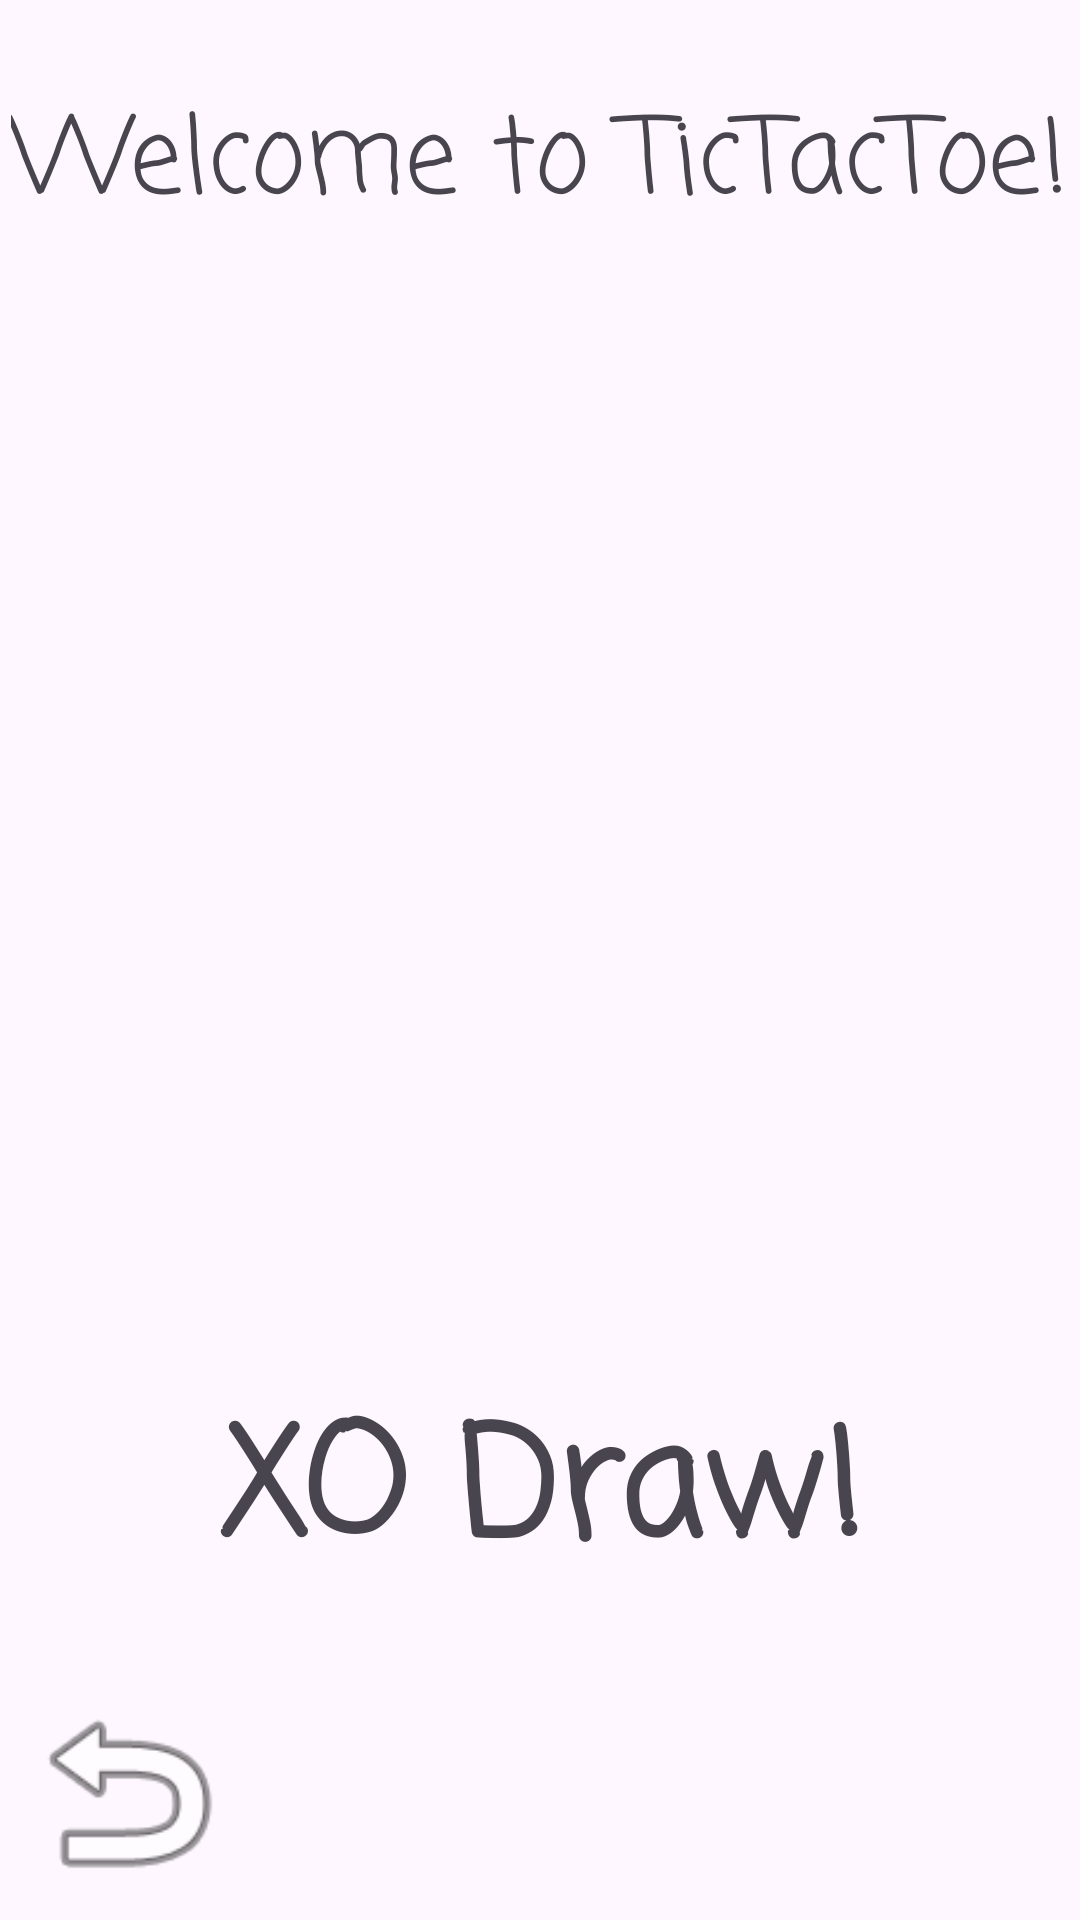

Screen size 1080 × 1920. Icon name, then its box in pixels as (x1, y1, x2, y2):
revert: (49, 1720, 212, 1868)
